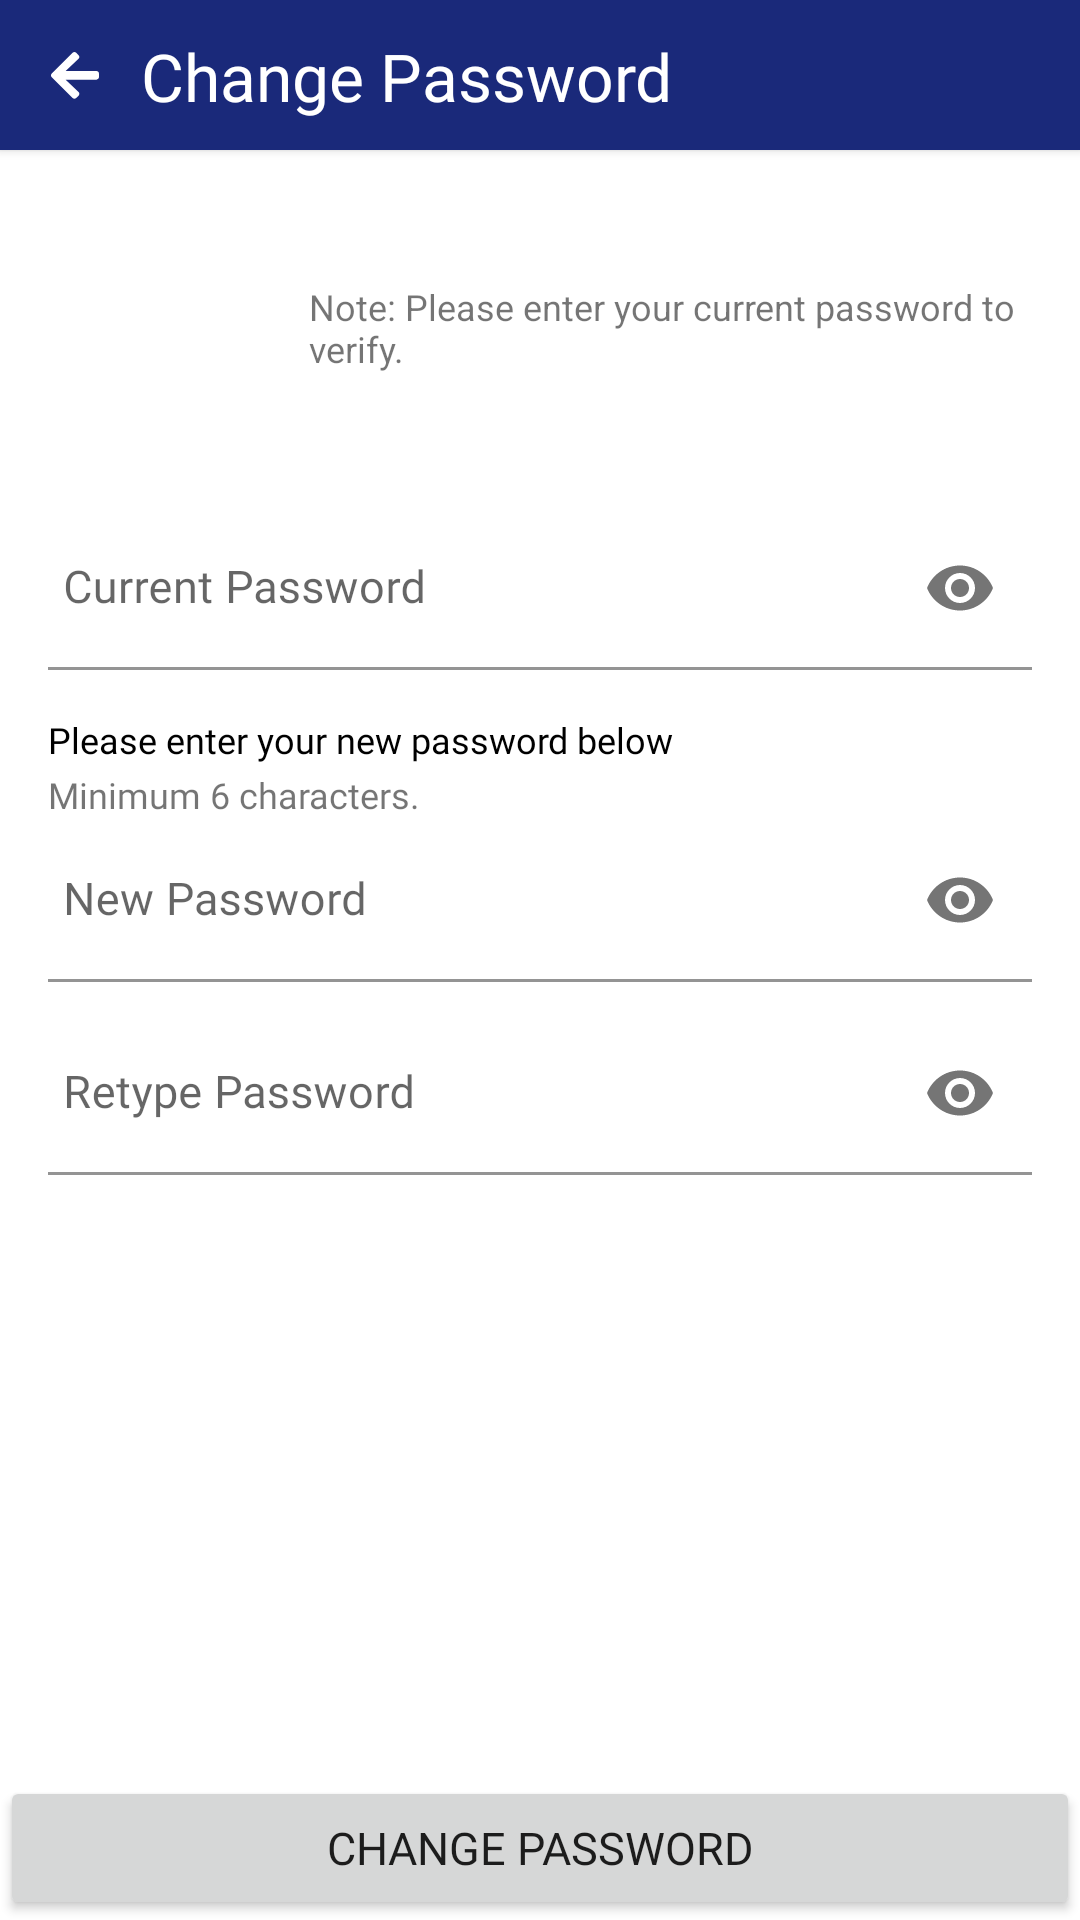

Icons on this 1080px x 1920px Android screen, each with the point to tap as [x,y]:
arrow left: [75,75]
